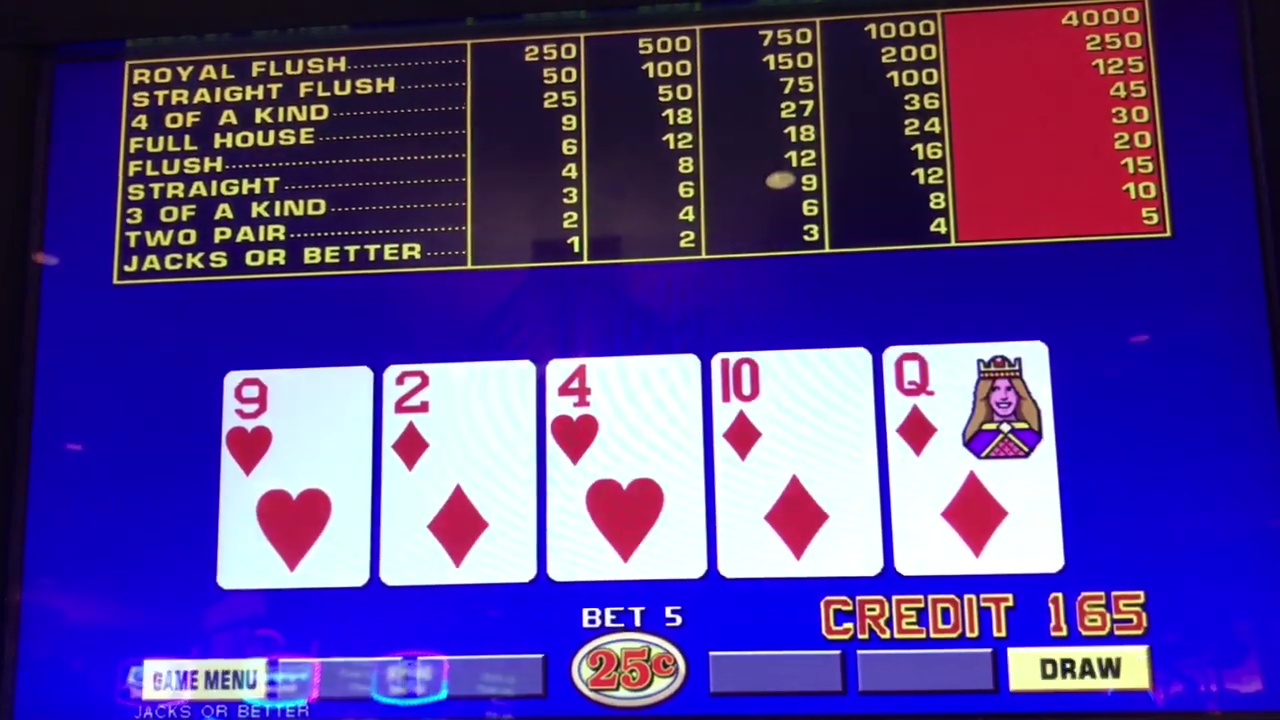D2: (387, 365, 525, 582)
DQ: (894, 349, 1047, 569)
DT: (712, 352, 872, 579)
H4: (547, 360, 706, 578)
H9: (230, 372, 359, 587)
